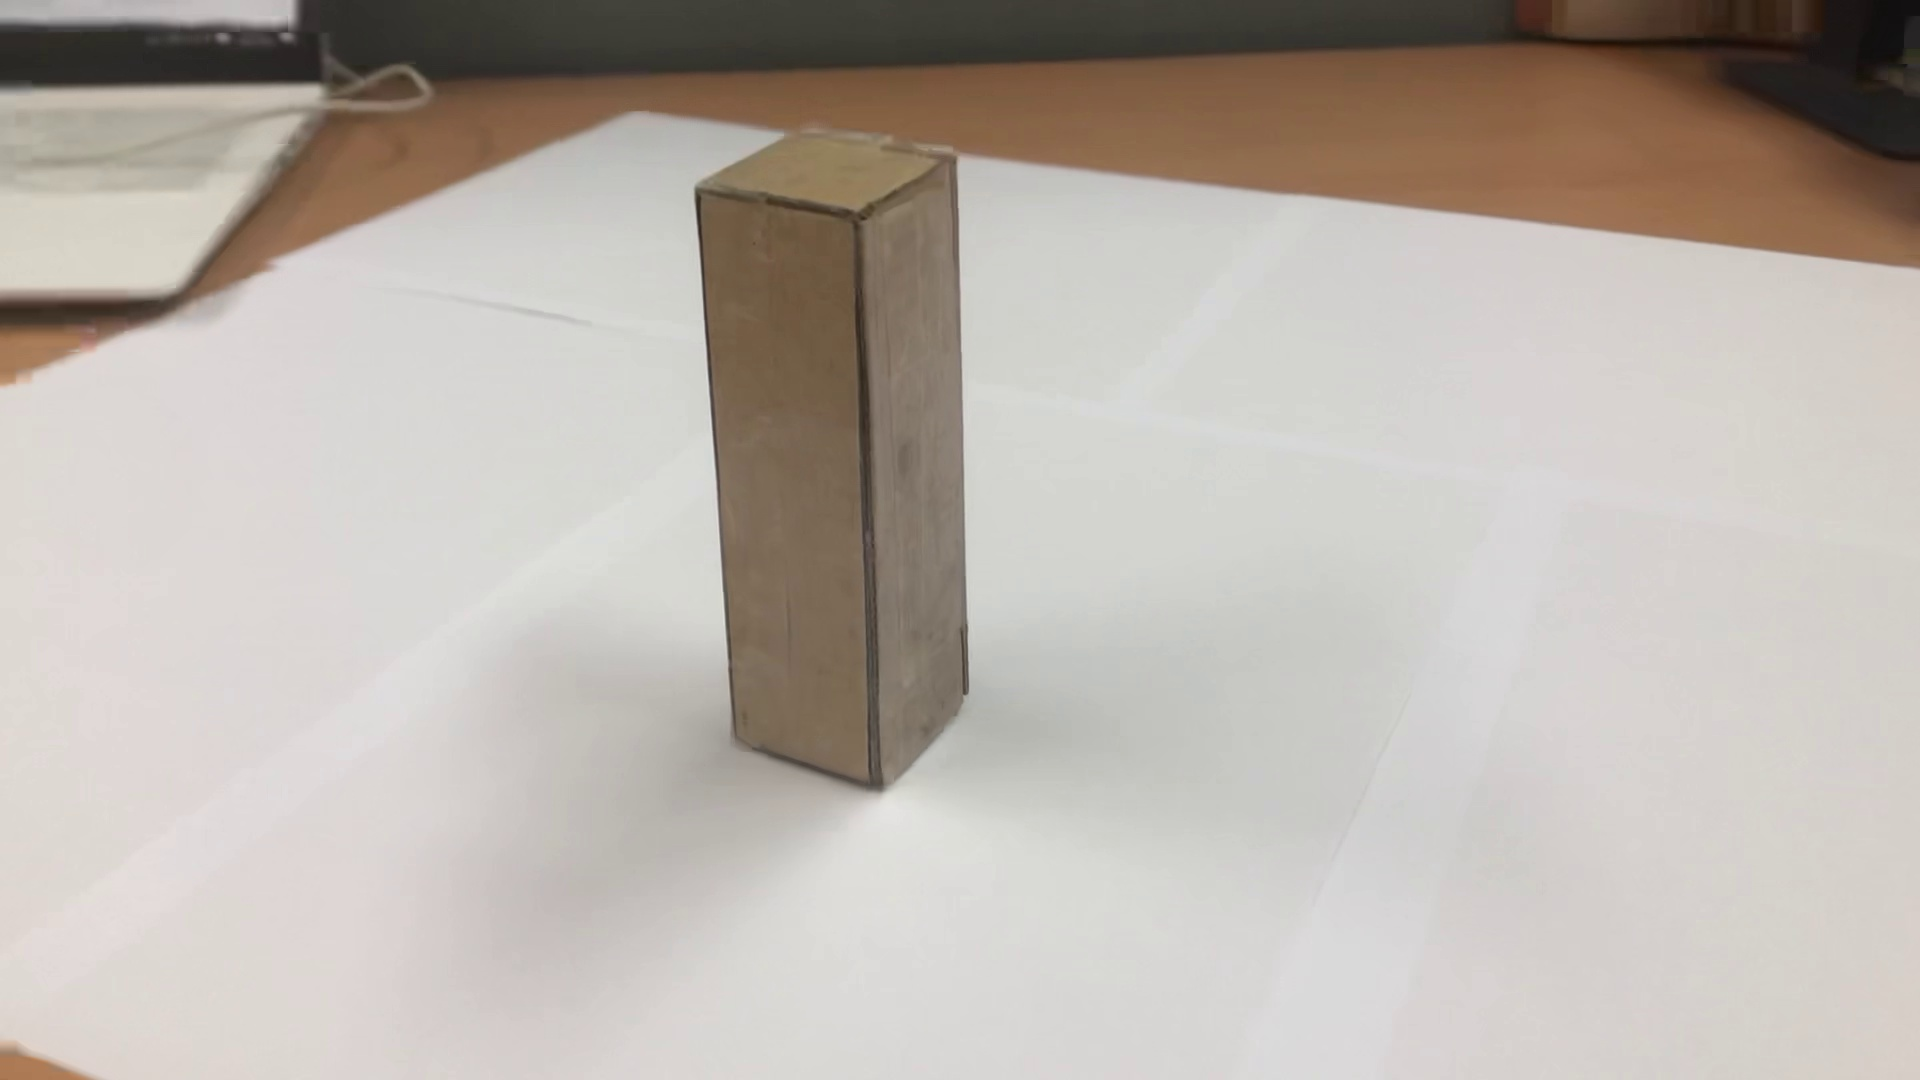box: (688, 113, 1005, 802)
